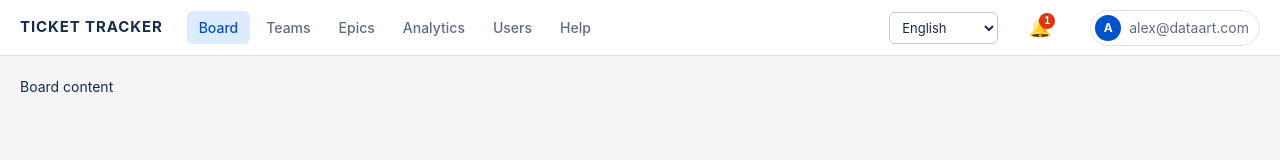
Scenario: LanguageSwitcher › flips the AppLayout nav to Ukrainian after switching (end-to-end)
Expected: the text "Board content" is shown, top-left (20, 78), bottom-right (113, 95)
Expected: the link "Board" is shown, top-left (187, 11), bottom-right (250, 44)
Select "Українська" in the dropdown named "Language" at (944, 28), box top-left (889, 12), bottom-right (998, 44)
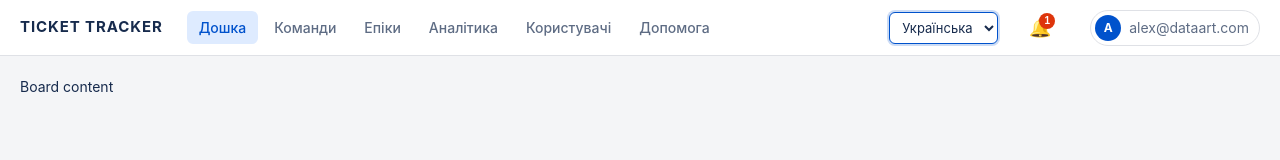
Now the link "Дошка" is shown, box top-left (187, 11), bottom-right (258, 44)
